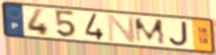4: (26, 8, 51, 37), (84, 13, 105, 41)
5: (53, 9, 78, 40)
J: (168, 21, 190, 47)
M: (133, 17, 168, 46)
N: (107, 13, 138, 44)
